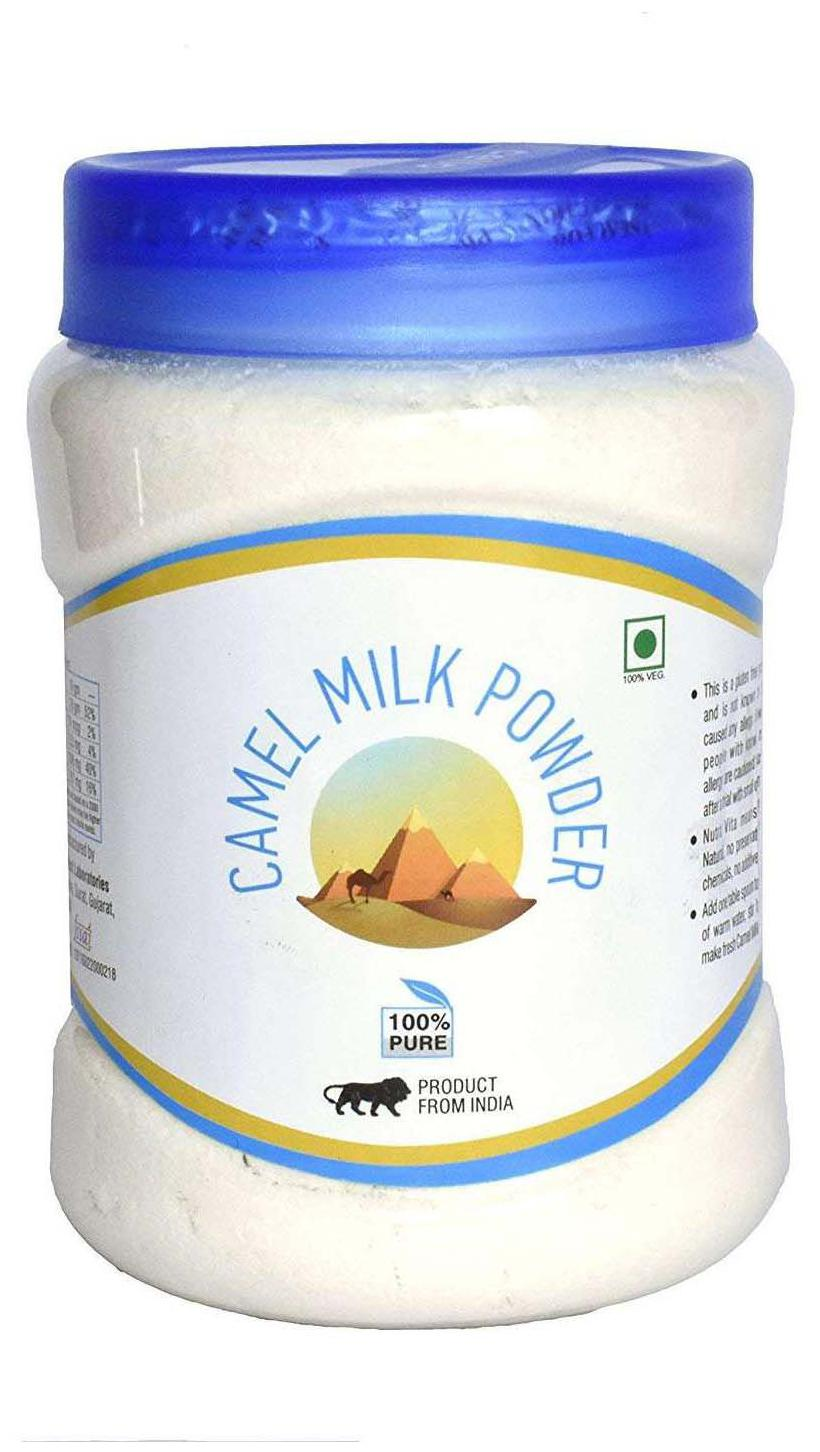JAR: (19, 119, 805, 1340)
